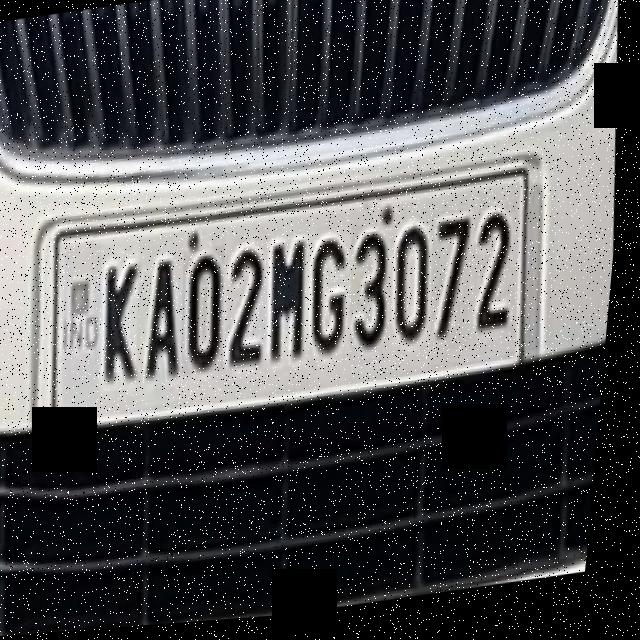0: (180, 248, 239, 379), (390, 228, 443, 356)
3: (347, 227, 405, 372)
7: (427, 214, 484, 360)
A: (140, 241, 197, 390)
G: (305, 230, 365, 365)
K: (95, 238, 154, 395)
M: (264, 237, 323, 375)
